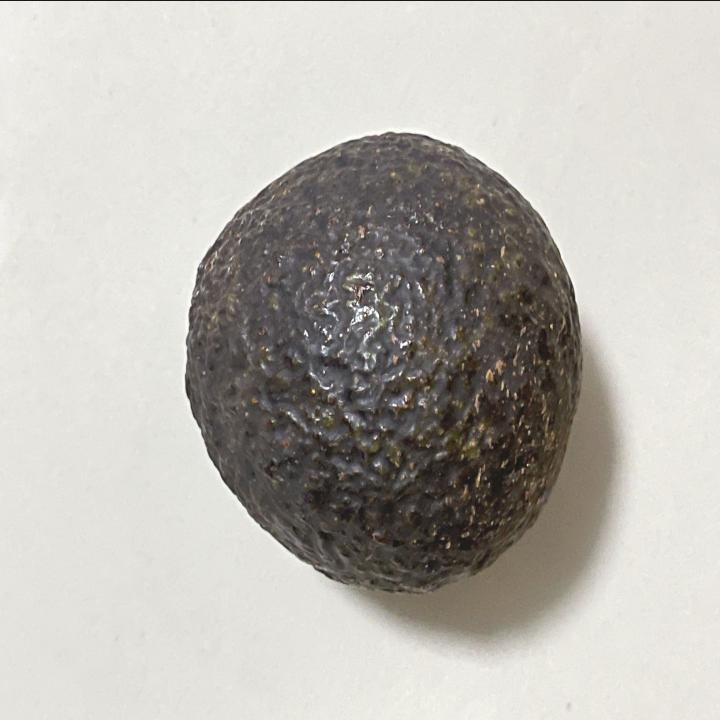Level2: (176, 125, 588, 603)
